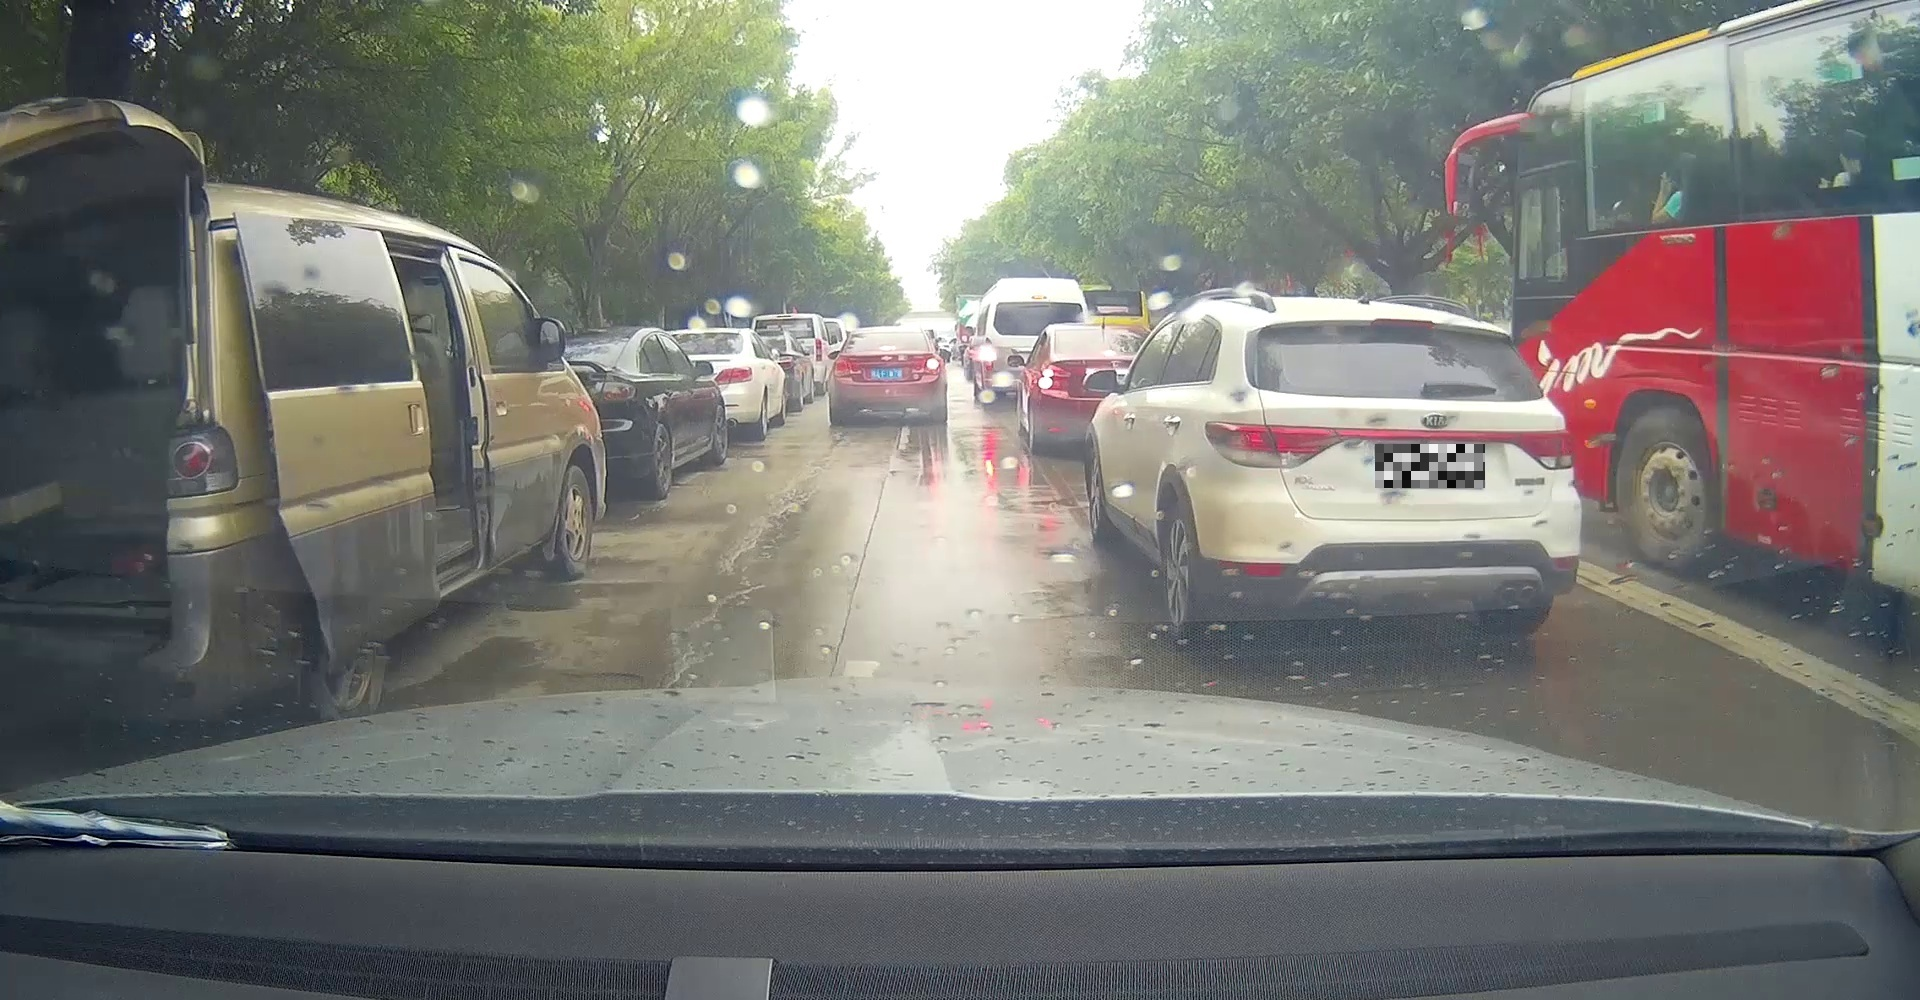L_light: (1203, 420, 1342, 468), (833, 357, 861, 377)
R_light: (1512, 429, 1575, 470), (912, 355, 941, 376)
T_light: (1371, 317, 1435, 329), (877, 345, 897, 352)
day-no: (1195, 299, 1581, 637)
day-right: (829, 325, 946, 426)
plate_1: (1375, 444, 1484, 489)
